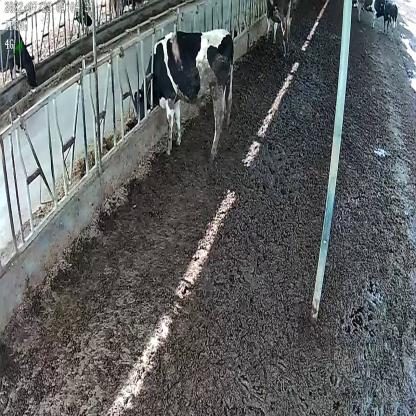cow: (133, 28, 236, 165)
